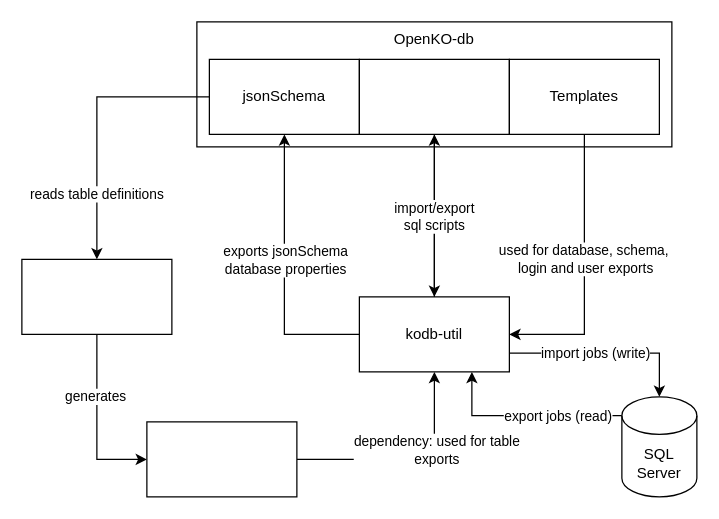
This 719x519 diagram has some shape labels left out. Here are the shapes that lost their labels. From the top down, the centre of each, then its label:
At pixel 433 96: "ManualSetup".
At pixel 96 296: "openko-gen".
At pixel 221 459: "openko-gorm".
